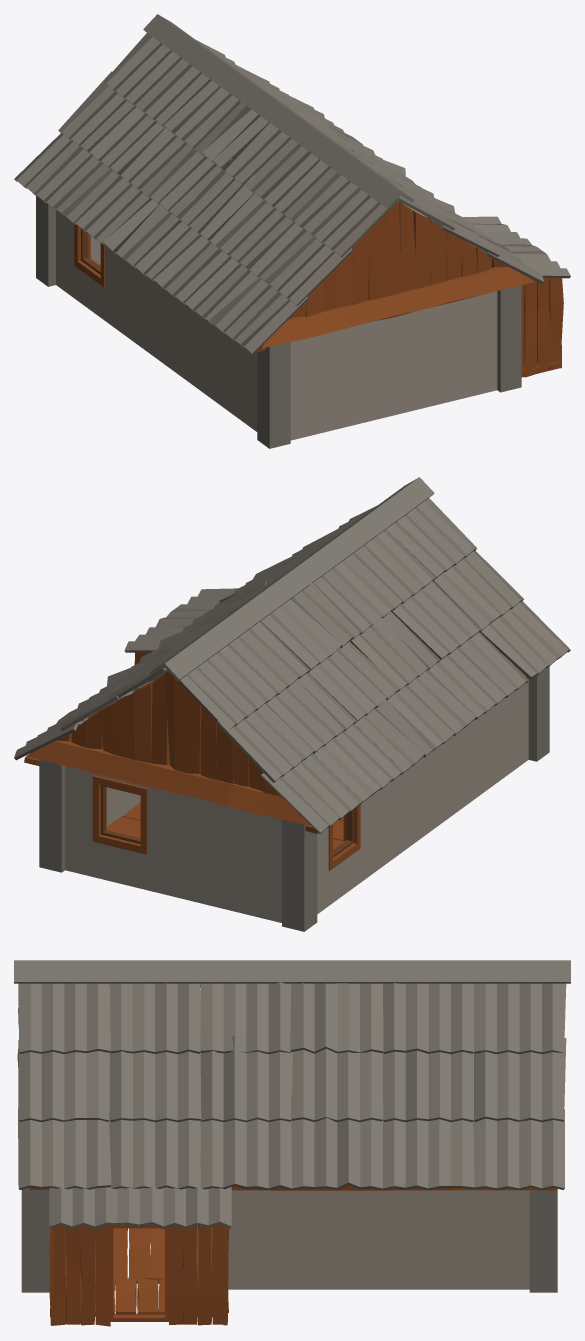
The model's file is будівля 5.fbx.
3 renders of one model, top to bottom at view 1: azimuth 30°, elevation 25°; view 2: azimuth 150°, elevation 25°; view 3: azimuth 270°, elevation 25°, orthographic. The views are drawn at different scales.
Parts seen in each view (by area): view 1: будівля 5; view 2: будівля 5; view 3: будівля 5.
Boxes of the visible parts, x1,y1,x2,y2 form: будівля 5: [14, 14, 570, 448]; будівля 5: [14, 477, 570, 931]; будівля 5: [14, 960, 570, 1326].
Size of what is drawn, in the model's own units: 5969 by 3917 by 7418.
